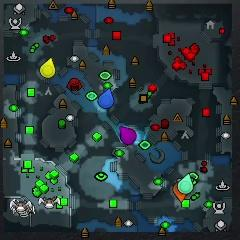p1: (98, 88, 113, 109)
p2: (178, 174, 193, 195)
p3: (119, 126, 136, 144)
p4: (40, 58, 55, 78)
p5: (173, 182, 187, 202)
